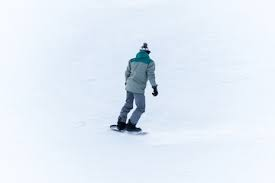snowboarder: (95, 30, 170, 148)
